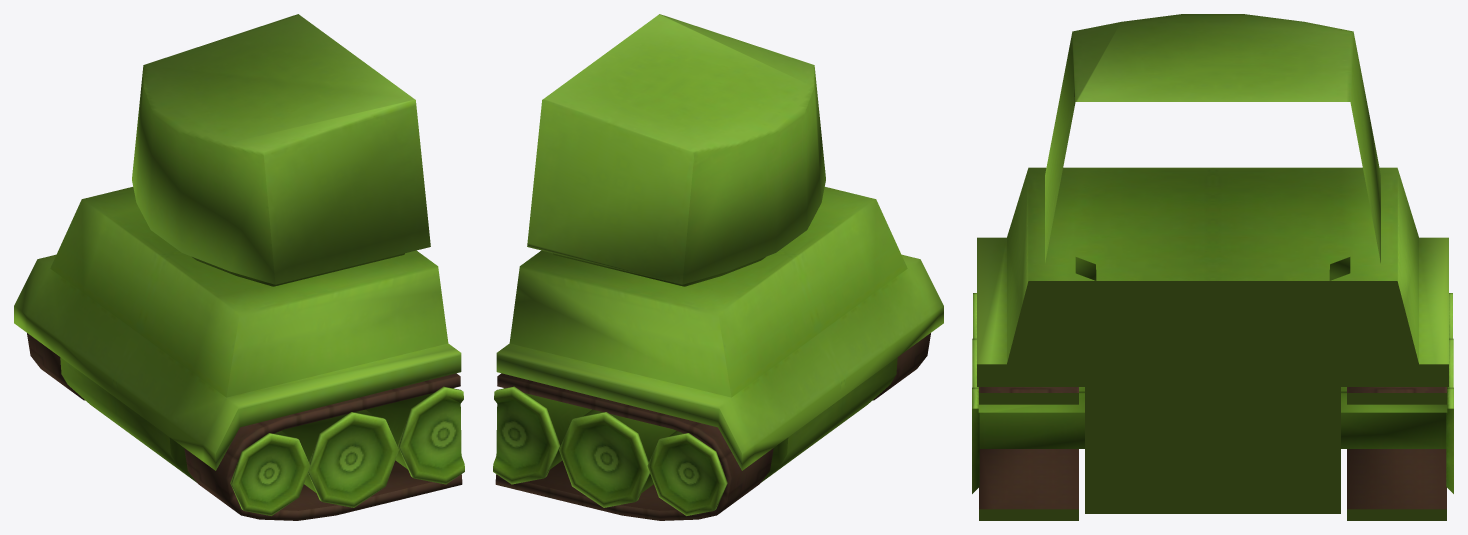
Rendered from panzer_right.glb.
3 renders of one model, left to right at view 1: azimuth 30°, elevation 25°; view 2: azimuth 150°, elevation 25°; view 3: azimuth 270°, elevation 25°, orthographic. The views are drawn at different scales.
Parts seen in each view (by area): view 1: panzer_right; view 2: panzer_right; view 3: panzer_right.
Boxes of the visible parts, bbox=[...] form: panzer_right: bbox=[14, 14, 464, 520]; panzer_right: bbox=[493, 14, 943, 520]; panzer_right: bbox=[972, 14, 1453, 520].
Size of the model in its own units: 0.6179 by 0.8498 by 0.8916.
1 material, 1 textured.
